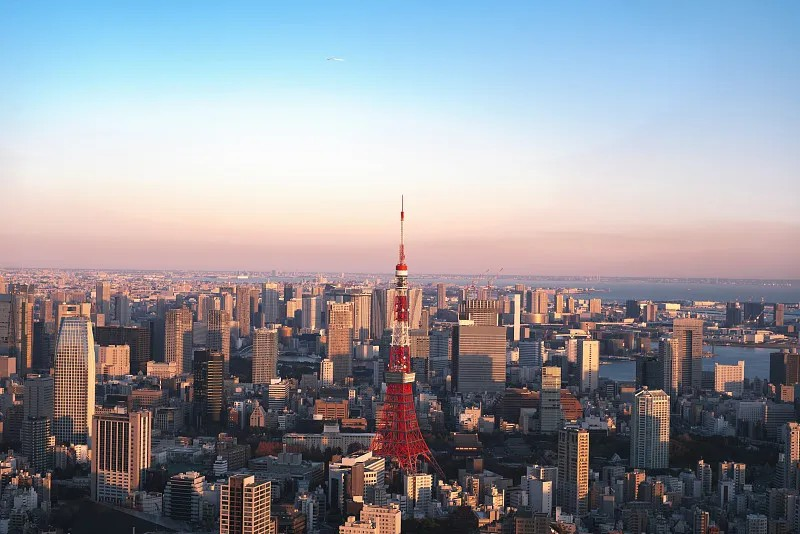Tokyo: (368, 191, 450, 482)
